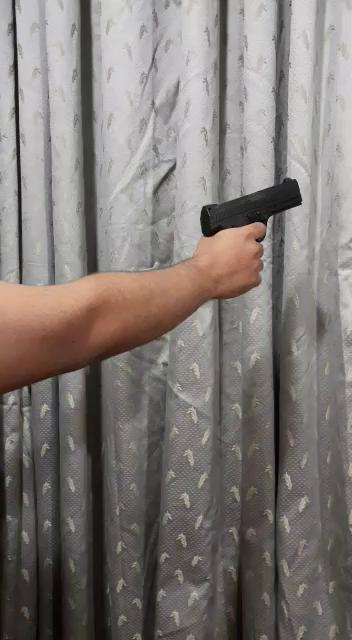weapon: (196, 175, 306, 246)
